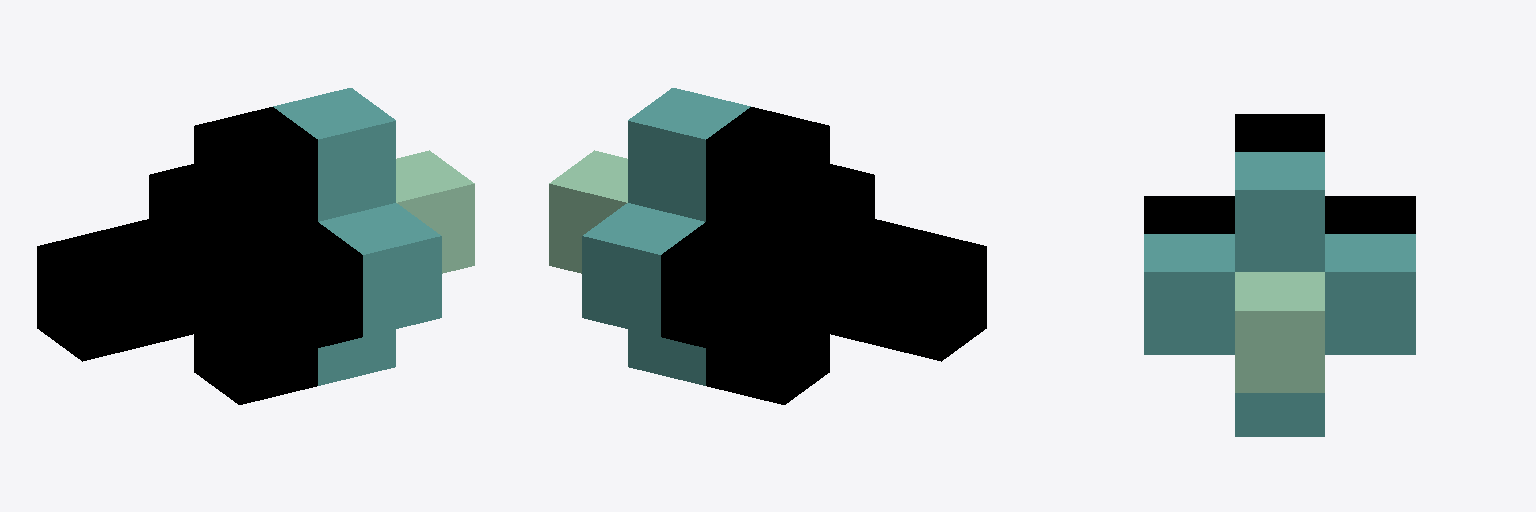
3 renders of one model, left to right at view 1: azimuth 30°, elevation 25°; view 2: azimuth 150°, elevation 25°; view 3: azimuth 270°, elevation 25°, orthographic.
Visible parts, largest first — view 1: YAVD_Tiles-34; view 2: YAVD_Tiles-34; view 3: YAVD_Tiles-34.
Part boxes in pixels (x1,y1,x2,y2): YAVD_Tiles-34: (37, 88, 474, 404); YAVD_Tiles-34: (549, 88, 986, 404); YAVD_Tiles-34: (1144, 114, 1415, 436).
Bounding box in the file's own units: 5 × 3 × 3.
1 materials, 1 textured.